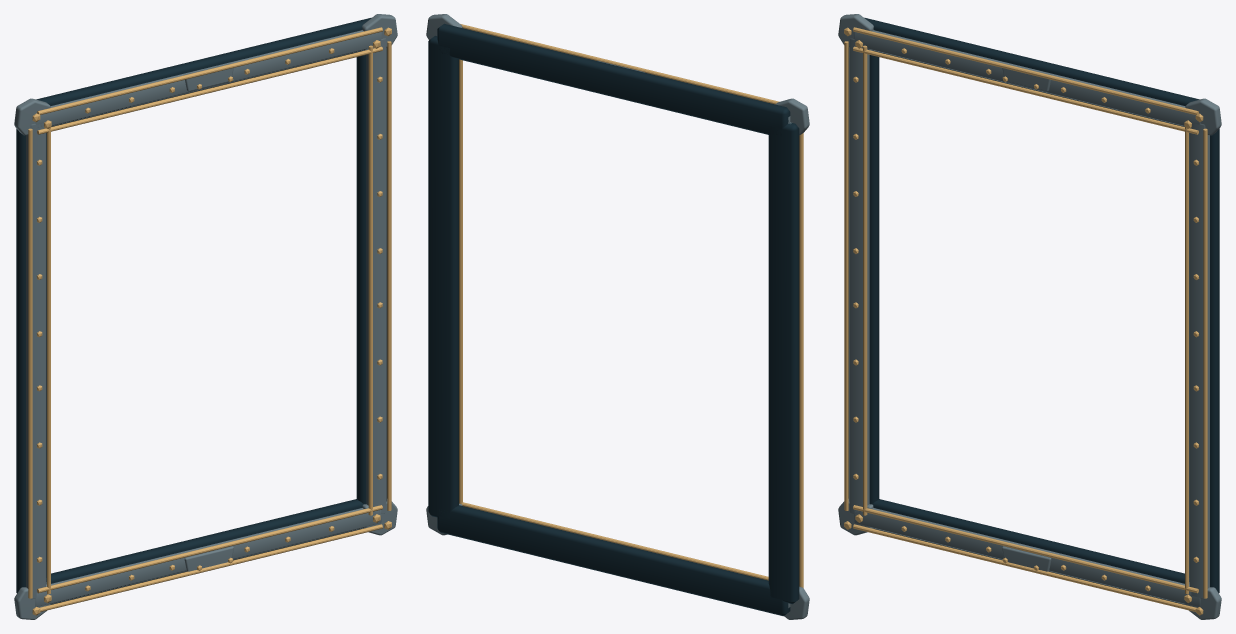
File: card-common.glb
3 views of the same model, side by side, from view 1: azimuth 30°, elevation 25°; view 2: azimuth 150°, elevation 25°; view 3: azimuth 330°, elevation 25° (orthographic).
Parts seen in each view (by area): view 1: card-common / Frame | blue forged iron, card-common / Frame | ink enamel recess, card-common / Fittings | worn maritime brass; view 2: card-common / Frame | ink enamel recess, card-common / Fittings | worn maritime brass, card-common / Frame | blue forged iron; view 3: card-common / Frame | blue forged iron, card-common / Frame | ink enamel recess, card-common / Fittings | worn maritime brass.
Part boxes in pixels (box(x1,y1,x2,y2)): card-common / Frame | blue forged iron: box(14, 14, 397, 619); card-common / Frame | ink enamel recess: box(16, 17, 387, 604); card-common / Fittings | worn maritime brass: box(28, 27, 391, 615); card-common / Frame | ink enamel recess: box(428, 23, 799, 616); card-common / Fittings | worn maritime brass: box(459, 24, 803, 587); card-common / Frame | blue forged iron: box(426, 14, 809, 619); card-common / Frame | blue forged iron: box(838, 14, 1221, 619); card-common / Frame | ink enamel recess: box(848, 17, 1219, 604); card-common / Fittings | worn maritime brass: box(844, 27, 1207, 615).
Size of the model in its own units: 6.61 by 8.62 by 0.5372.
